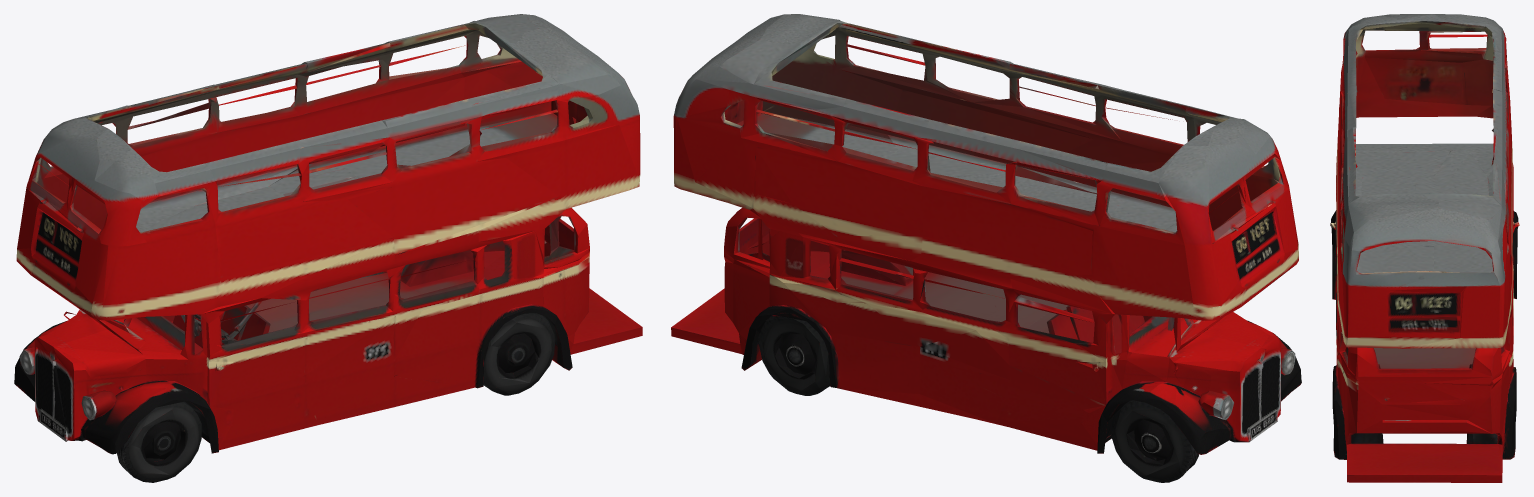
File: bus.glb
The picture shows the model from 3 angles, left to right: view 1: azimuth 30°, elevation 25°; view 2: azimuth 150°, elevation 25°; view 3: azimuth 270°, elevation 25°; orthographic projection. The views are drawn at different scales.
Size of the model in its own units: 1.9 by 1.03 by 0.6394.
1 material, 1 textured.
